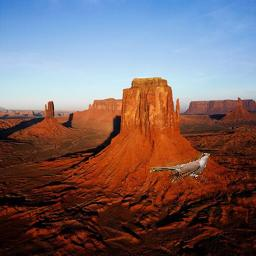Cuckoo: (150, 153, 210, 183)
